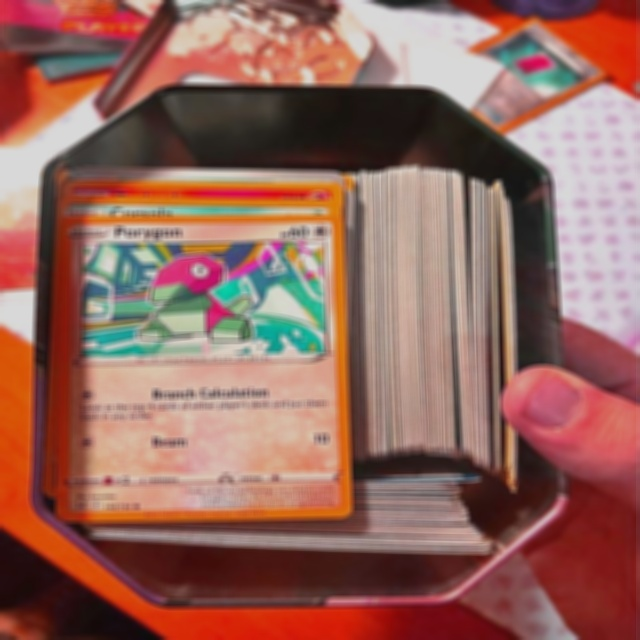card: (55, 214, 354, 522)
